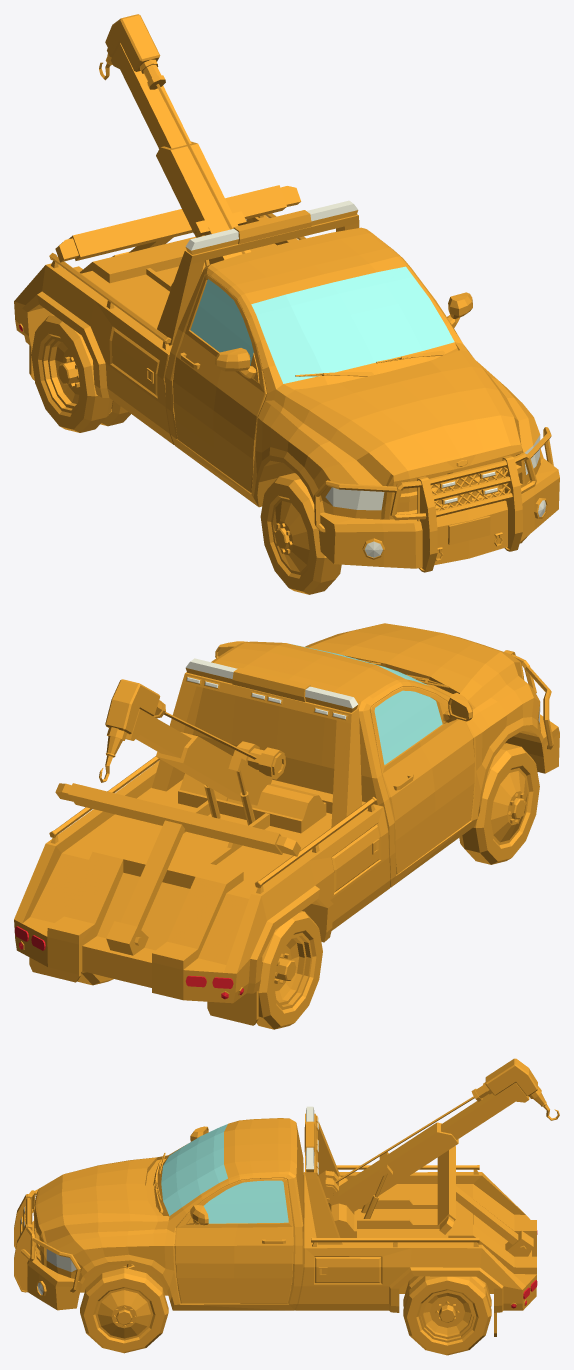
File: SM_Car_TowTruck_Modern.fbx
3 views of the same model, one above another, from view 1: azimuth 30°, elevation 25°; view 2: azimuth 150°, elevation 25°; view 3: azimuth 270°, elevation 25° (orthographic). The views are drawn at different scales.
Visible parts, largest first — view 1: SM_Car_TowTruck_Modern_Base, SM_Car_TowTruck_Modern_Door_R, SM_Car_TowTruck_Modern_Wheel_RB, SM_Car_TowTruck_Modern_Wheel_RF, SM_Car_TowTruck_Modern_Hook; view 2: SM_Car_TowTruck_Modern_Base, SM_Car_TowTruck_Modern_Door_R, SM_Car_TowTruck_Modern_Hook, SM_Car_TowTruck_Modern_Wheel_RF, SM_Car_TowTruck_Modern_Wheel_RB; view 3: SM_Car_TowTruck_Modern_Base, SM_Car_TowTruck_Modern_Door_L, SM_Car_TowTruck_Modern_Wheel_LB, SM_Car_TowTruck_Modern_Wheel_LF, SM_Car_TowTruck_Modern_Hook.
Part boxes in pixels (x1=…): SM_Car_TowTruck_Modern_Base: x1=14, y1=14, x2=559, y2=572; SM_Car_TowTruck_Modern_Door_R: x1=173, y1=274, x2=266, y2=492; SM_Car_TowTruck_Modern_Wheel_RB: x1=31, y1=314, x2=130, y2=432; SM_Car_TowTruck_Modern_Wheel_RF: x1=260, y1=473, x2=341, y2=594; SM_Car_TowTruck_Modern_Hook: x1=55, y1=185, x2=301, y2=262; SM_Car_TowTruck_Modern_Base: x1=14, y1=623, x2=559, y2=1025; SM_Car_TowTruck_Modern_Door_R: x1=370, y1=686, x2=474, y2=874; SM_Car_TowTruck_Modern_Hook: x1=55, y1=783, x2=300, y2=929; SM_Car_TowTruck_Modern_Wheel_RF: x1=459, y1=743, x2=539, y2=864; SM_Car_TowTruck_Modern_Wheel_RB: x1=256, y1=911, x2=322, y2=1029; SM_Car_TowTruck_Modern_Base: x1=14, y1=1058, x2=559, y2=1336; SM_Car_TowTruck_Modern_Door_L: x1=174, y1=1178, x2=293, y2=1303; SM_Car_TowTruck_Modern_Wheel_LB: x1=403, y1=1276, x2=491, y2=1355; SM_Car_TowTruck_Modern_Wheel_LF: x1=80, y1=1268, x2=168, y2=1353; SM_Car_TowTruck_Modern_Hook: x1=437, y1=1146, x2=518, y2=1244.
Bounding box in the file's own units: 2.29 × 3 × 5.84.
